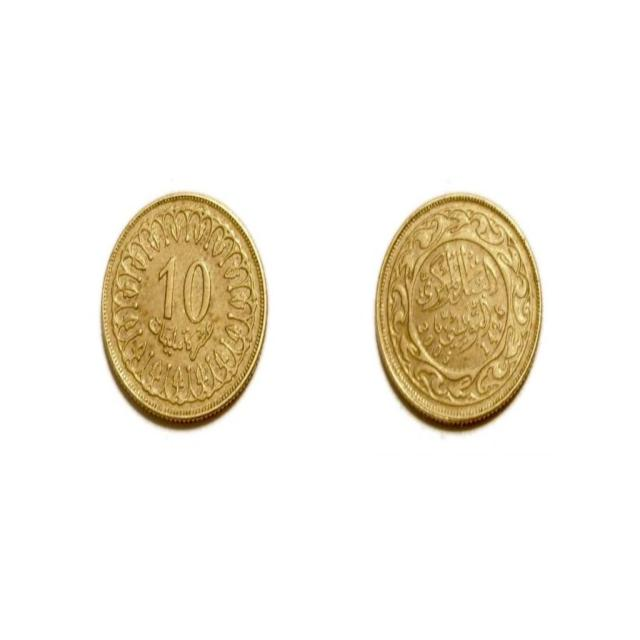Coin: (99, 191, 270, 429), (373, 189, 544, 425)
